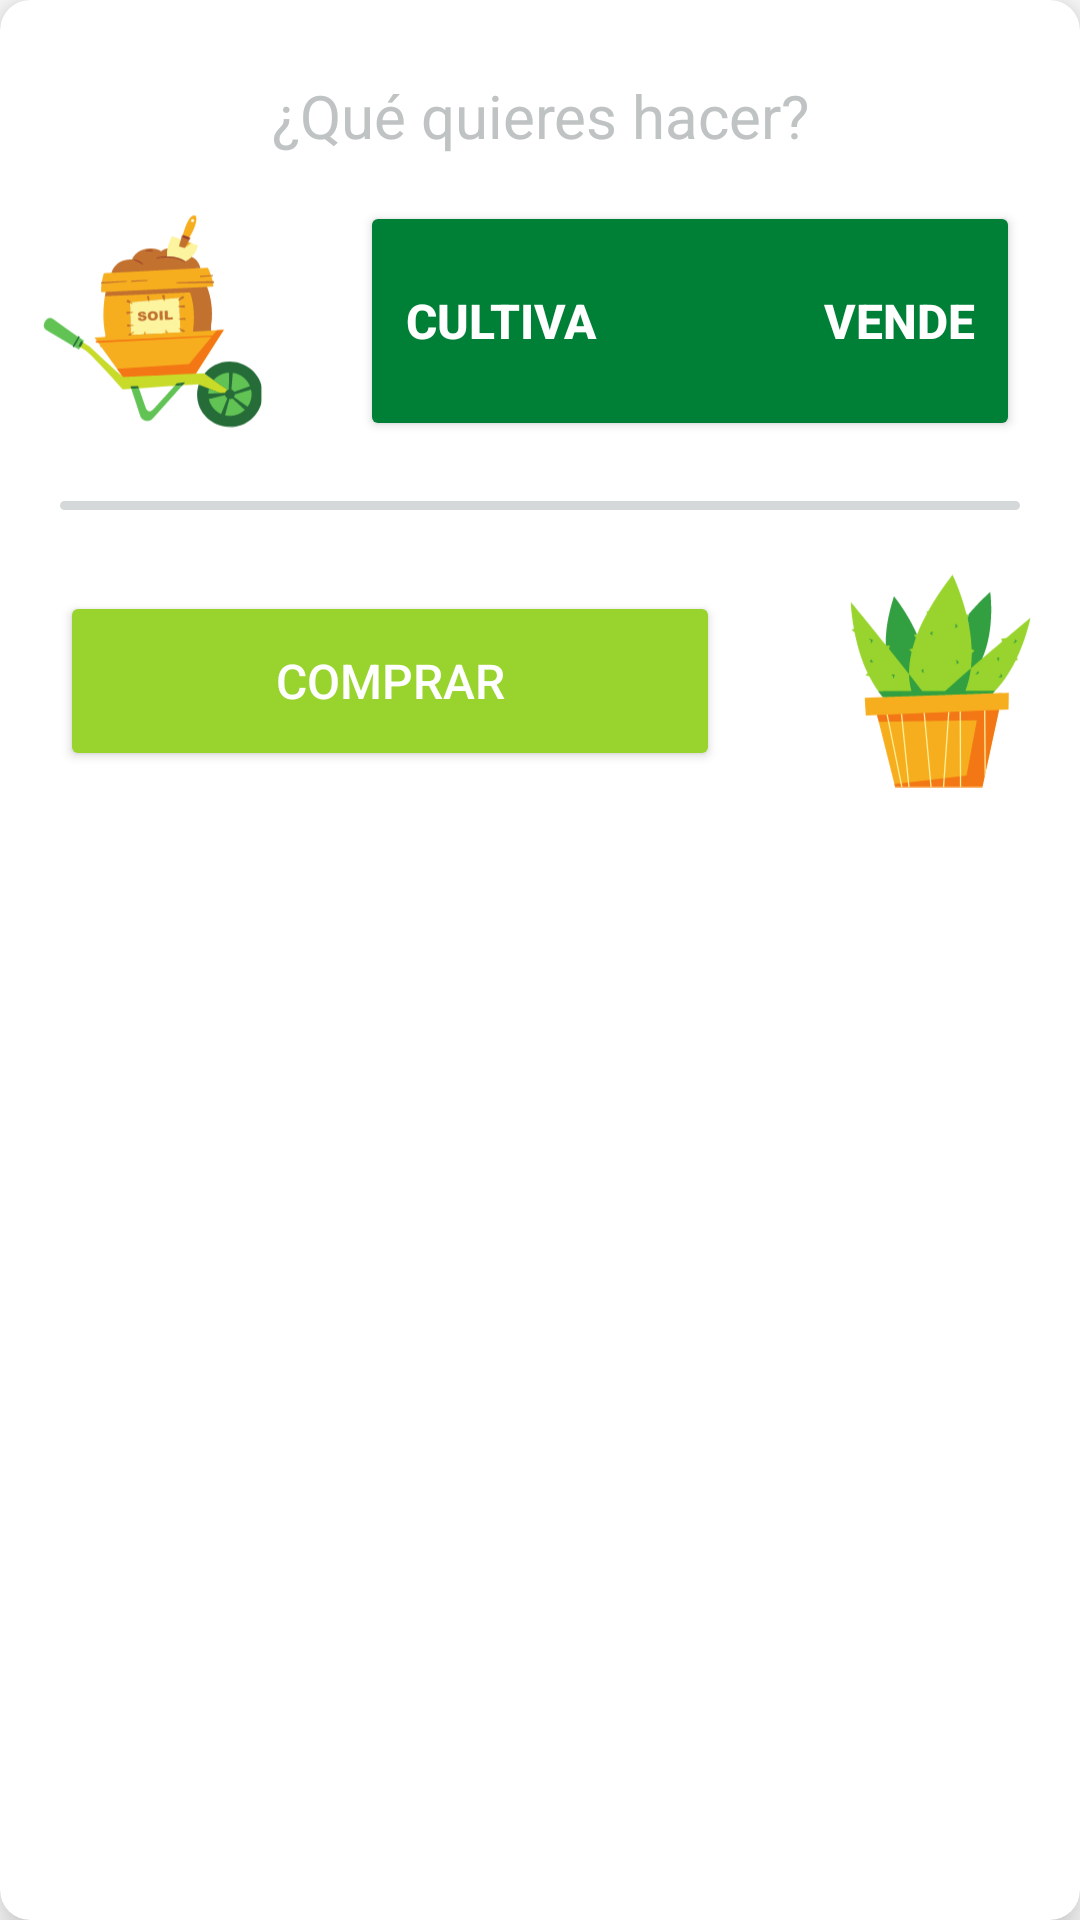

Screen size 1080w x 1920h. Icon name, then its center in pixels as [x,y]:
cart: [152,321]
plant: [940,681]
